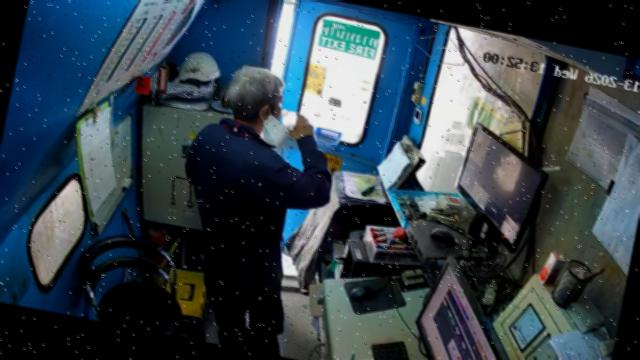Head: (226, 66, 285, 132)
People: (184, 66, 332, 354)
